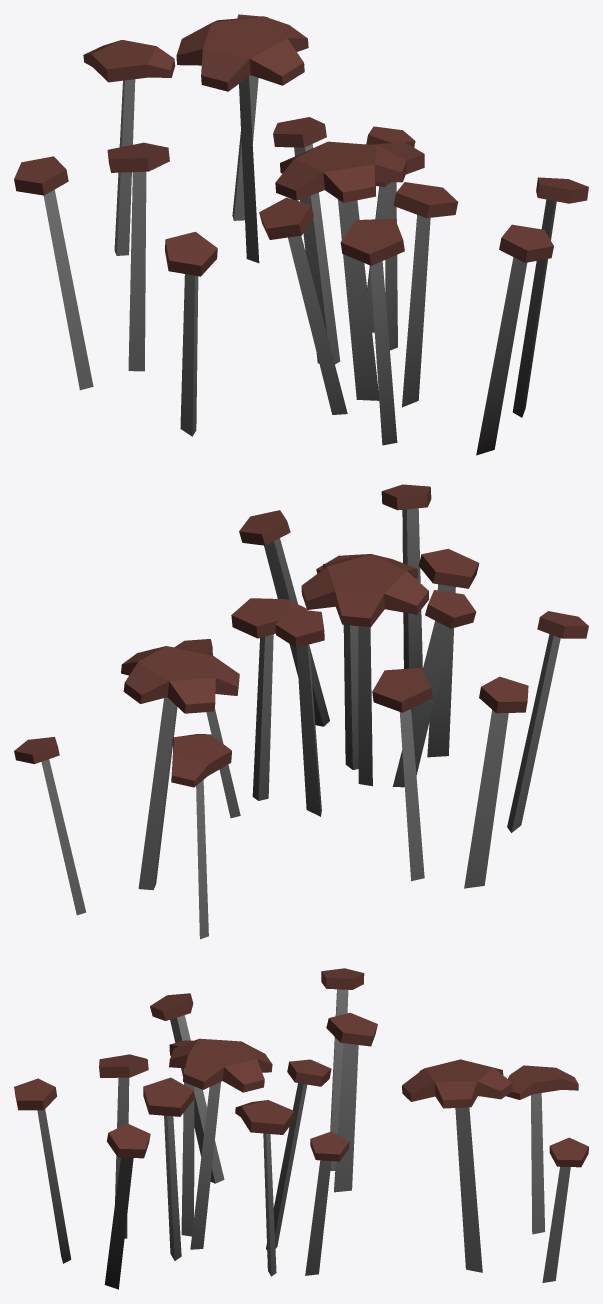
File: SM_Gen_Env_Flowers_01.glb
The picture shows the model from 3 angles, top to bottom: view 1: azimuth 30°, elevation 25°; view 2: azimuth 150°, elevation 25°; view 3: azimuth 270°, elevation 25°; orthographic projection. The views are drawn at different scales.
Visible parts, largest first — view 1: SM_Gen_Env_Flowers_01; view 2: SM_Gen_Env_Flowers_01; view 3: SM_Gen_Env_Flowers_01.
Part boxes in pixels (x1,y1,x2,y2): SM_Gen_Env_Flowers_01: (14, 14, 588, 455); SM_Gen_Env_Flowers_01: (14, 484, 588, 939); SM_Gen_Env_Flowers_01: (14, 968, 588, 1289).
Size of the model in its own units: 1.04 by 0.5464 by 1.48.
Materials: 1 (1 with a texture image).
